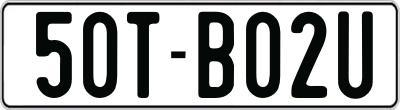0: (83, 9, 120, 95), (245, 12, 280, 101)
2: (288, 12, 326, 99)
5: (34, 9, 75, 97)
B: (196, 12, 233, 101)
T: (125, 11, 161, 102)
U: (338, 9, 377, 103)
